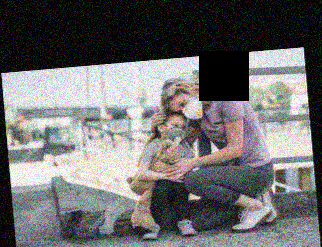with_mask: (176, 95, 204, 120), (163, 121, 188, 145)
